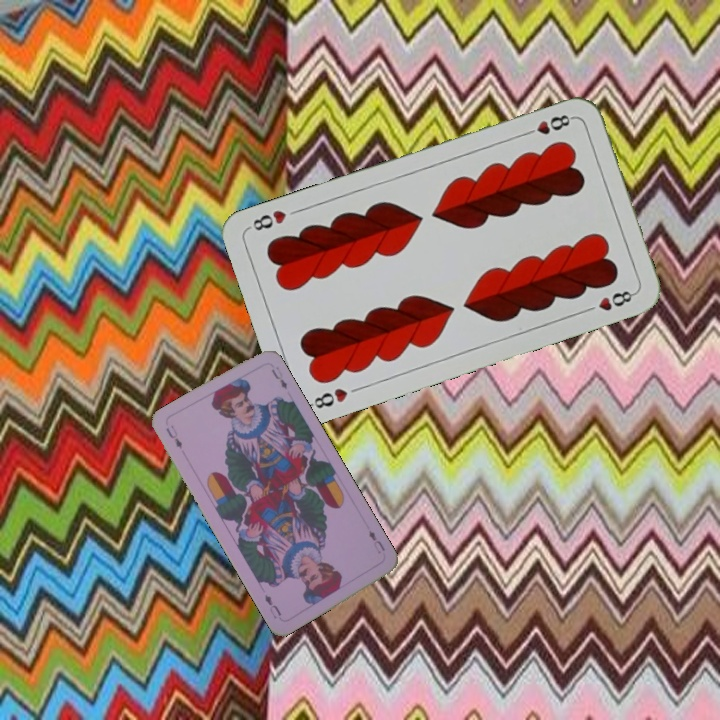EU: (162, 421, 185, 451), (364, 526, 388, 554)
H8: (519, 110, 577, 139), (305, 384, 351, 411)
